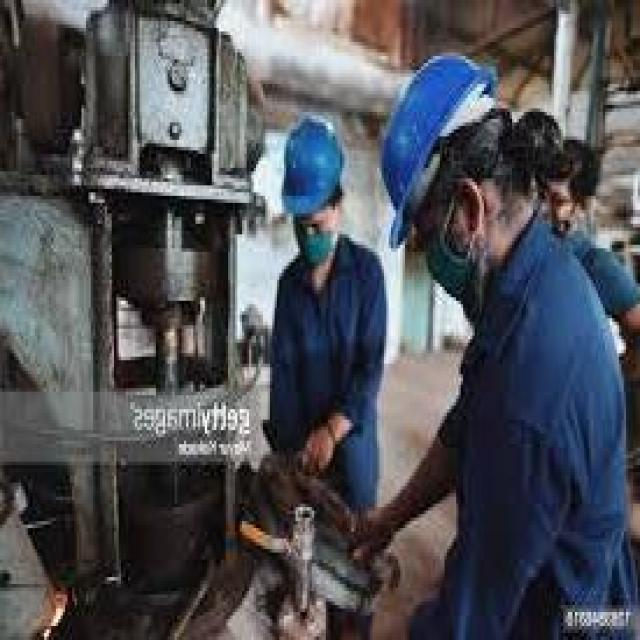Safety-Helmet: (370, 45, 517, 245), (270, 108, 356, 231)
